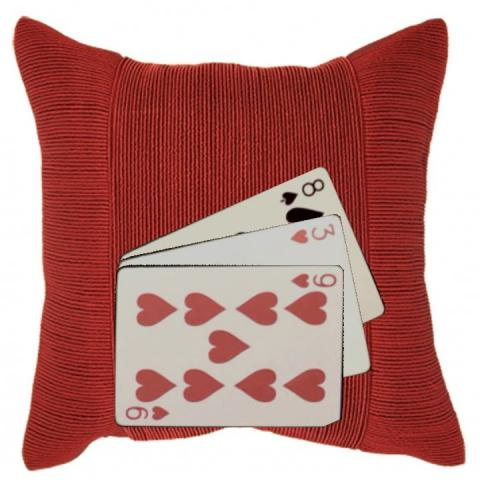3h: (287, 220, 337, 245)
8s: (277, 174, 327, 206)
9h: (288, 270, 339, 289), (122, 403, 171, 421)
